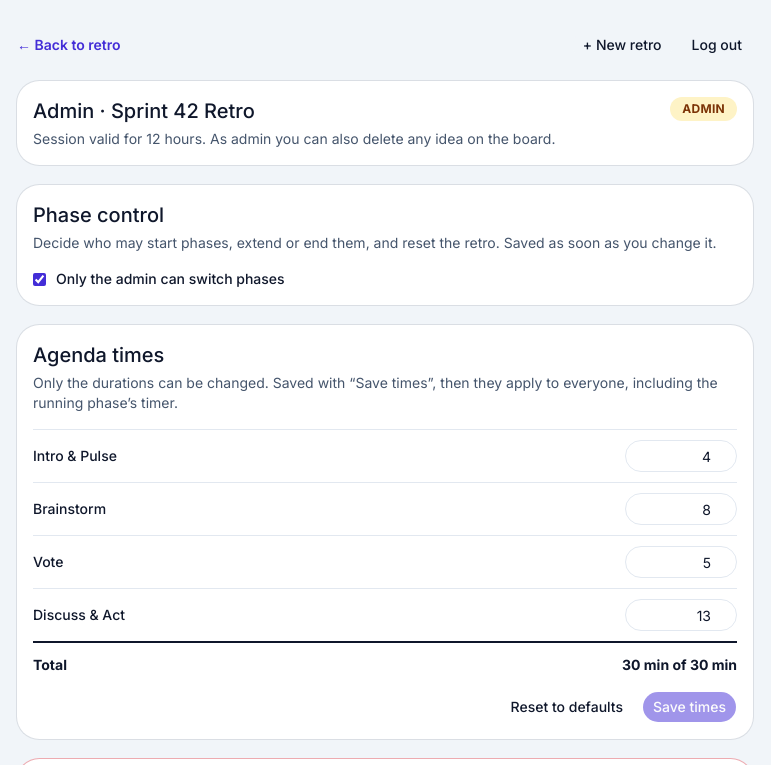
Test: AdminScreen panel › edits agenda times with a live total and warning
Expected: the text "30 min of 30 min" is shown, [622,655,737,675]
Expected: the button "Save times" is disabled, [642,691,737,723]
Replace the text in the number field labelled "Discuss & Act" with "20". click: (681, 615)
box: [625,599,737,631]
(page scrolled)
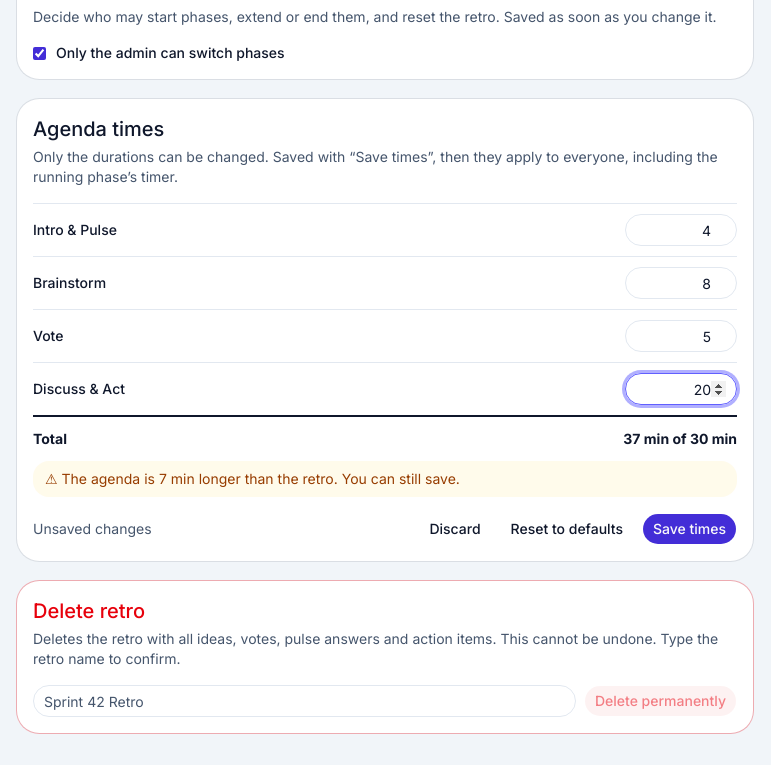
Expected: the text "Unsaved changes" is shown, [33,519,152,539]
Expected: the text "37 min of 30 min" is shown, [623,429,737,449]
Expected: the message shows "7 min longer", [33,461,737,497]
Click the button "Save times". click: (690, 529)
box: [642,513,737,545]
(page scrolled)
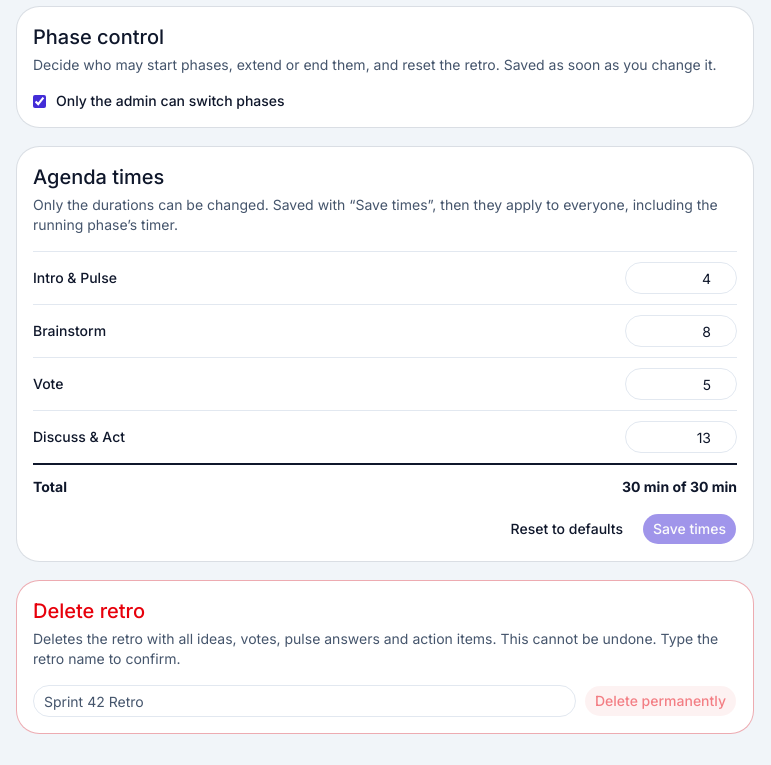
Expected: the text "Unsaved changes" is gone
Clear the number field labelled "Vote". click: (681, 384)
box: [625,368,737,400]
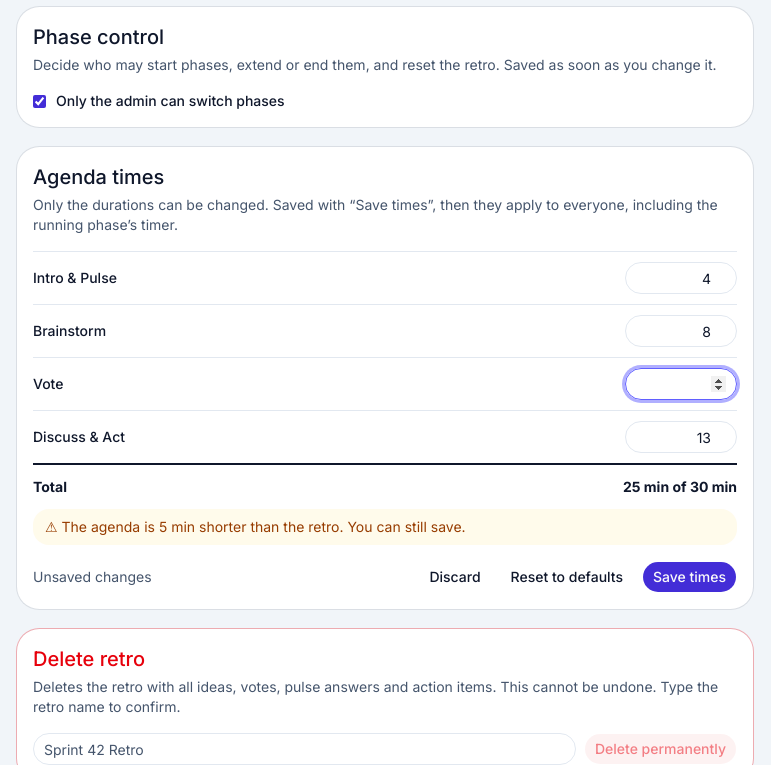
Replace the text in the number field labelled "Discuss & Act" with "10". click: (681, 437)
box: [625,421,737,453]
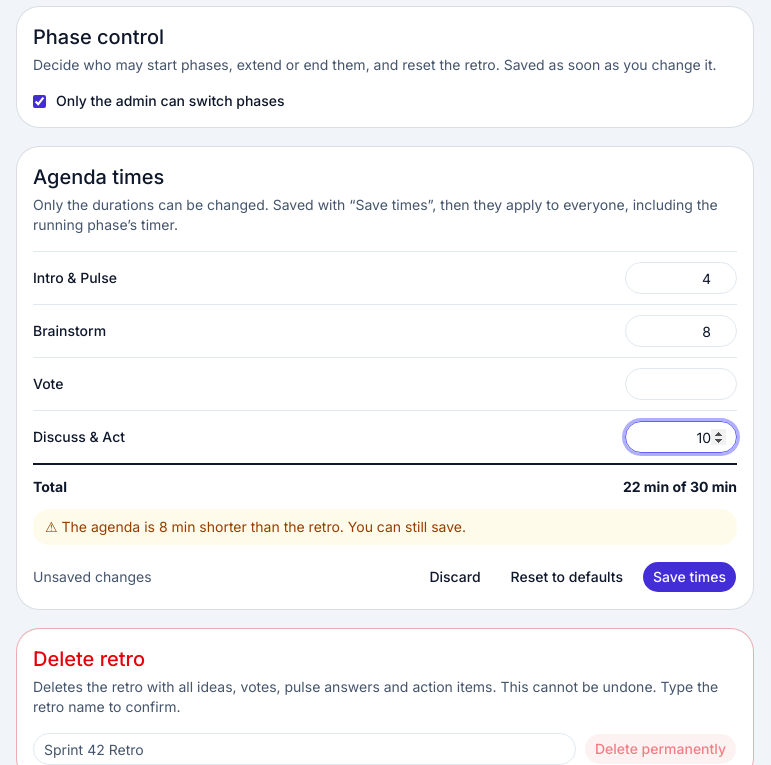
Expected: the message shows "8 min shorter", [33,509,737,545]
Expected: the text "22 min of 30 min" is shown, [623,477,737,497]
Click the button "Save times". click: (690, 577)
box: [642,561,737,593]
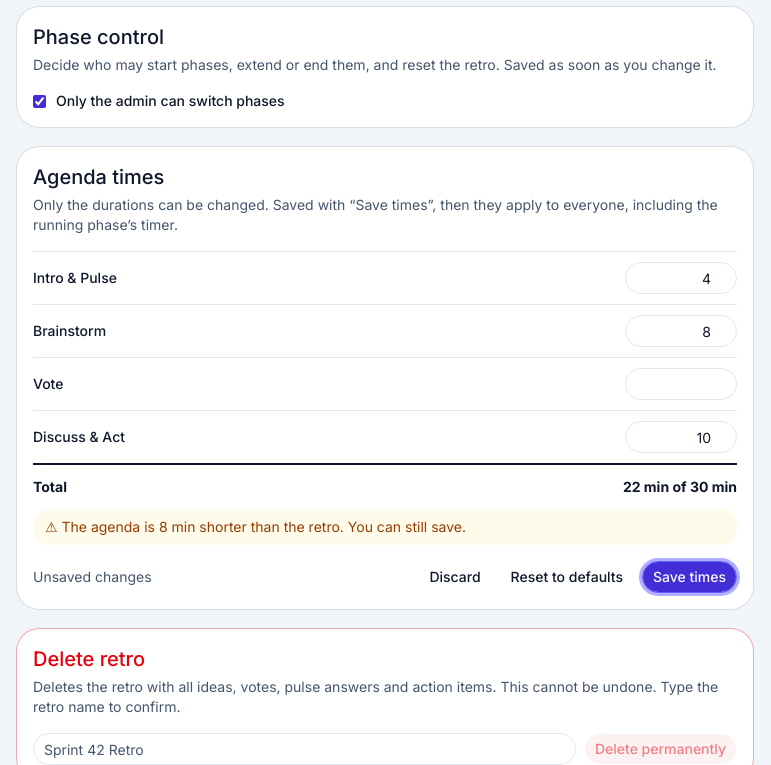
Click the button "Reset to defaults". click: (567, 577)
box: [500,561,634,593]
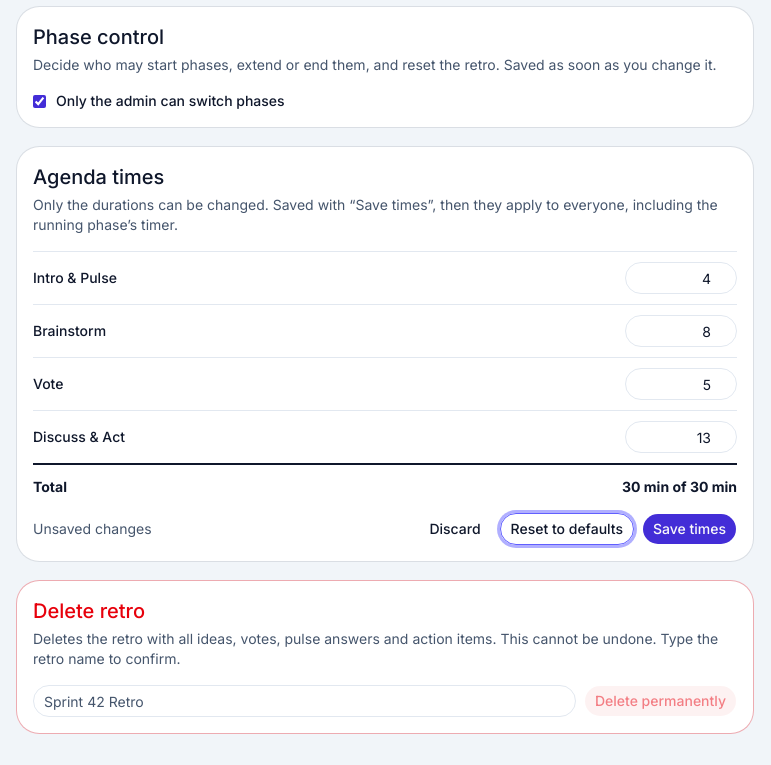
Expected: the text "30 min of 30 min" is shown, [622,477,737,497]
